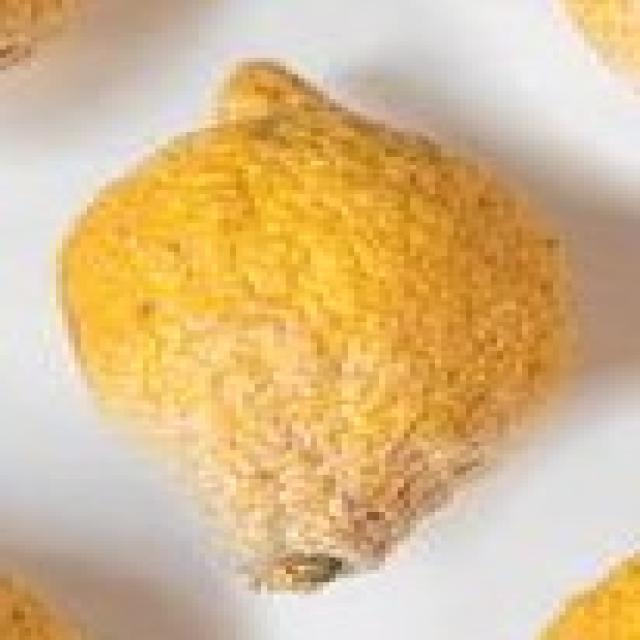overripe: (51, 52, 586, 607)
